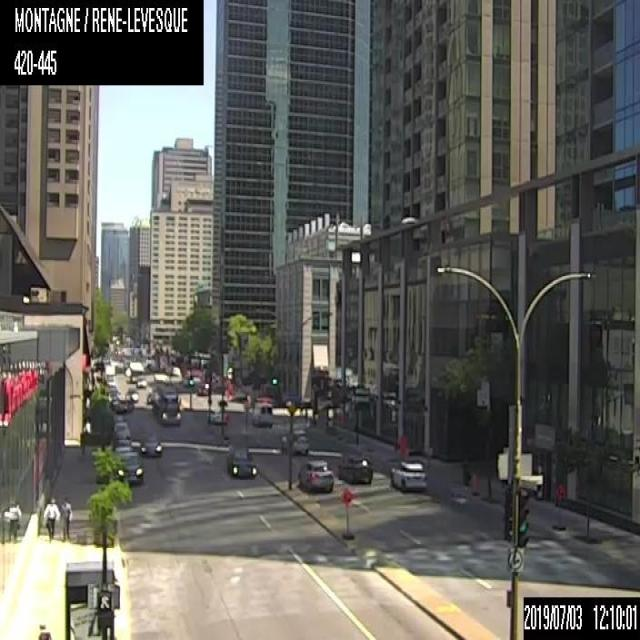bus: (128, 360, 143, 382)
construction: (341, 486, 354, 534), (554, 476, 566, 525), (398, 433, 407, 455)
pedestrian: (42, 496, 60, 542), (60, 494, 72, 542), (35, 620, 51, 639), (77, 428, 86, 460)
vehicle: (389, 453, 427, 495), (337, 453, 373, 487), (298, 459, 334, 493), (153, 384, 180, 426), (225, 445, 258, 477), (113, 450, 142, 483), (280, 428, 307, 452), (251, 399, 272, 428), (140, 432, 163, 456), (209, 408, 228, 423), (114, 422, 129, 439), (115, 438, 133, 452), (125, 386, 138, 402), (136, 375, 146, 387), (146, 390, 153, 404)
